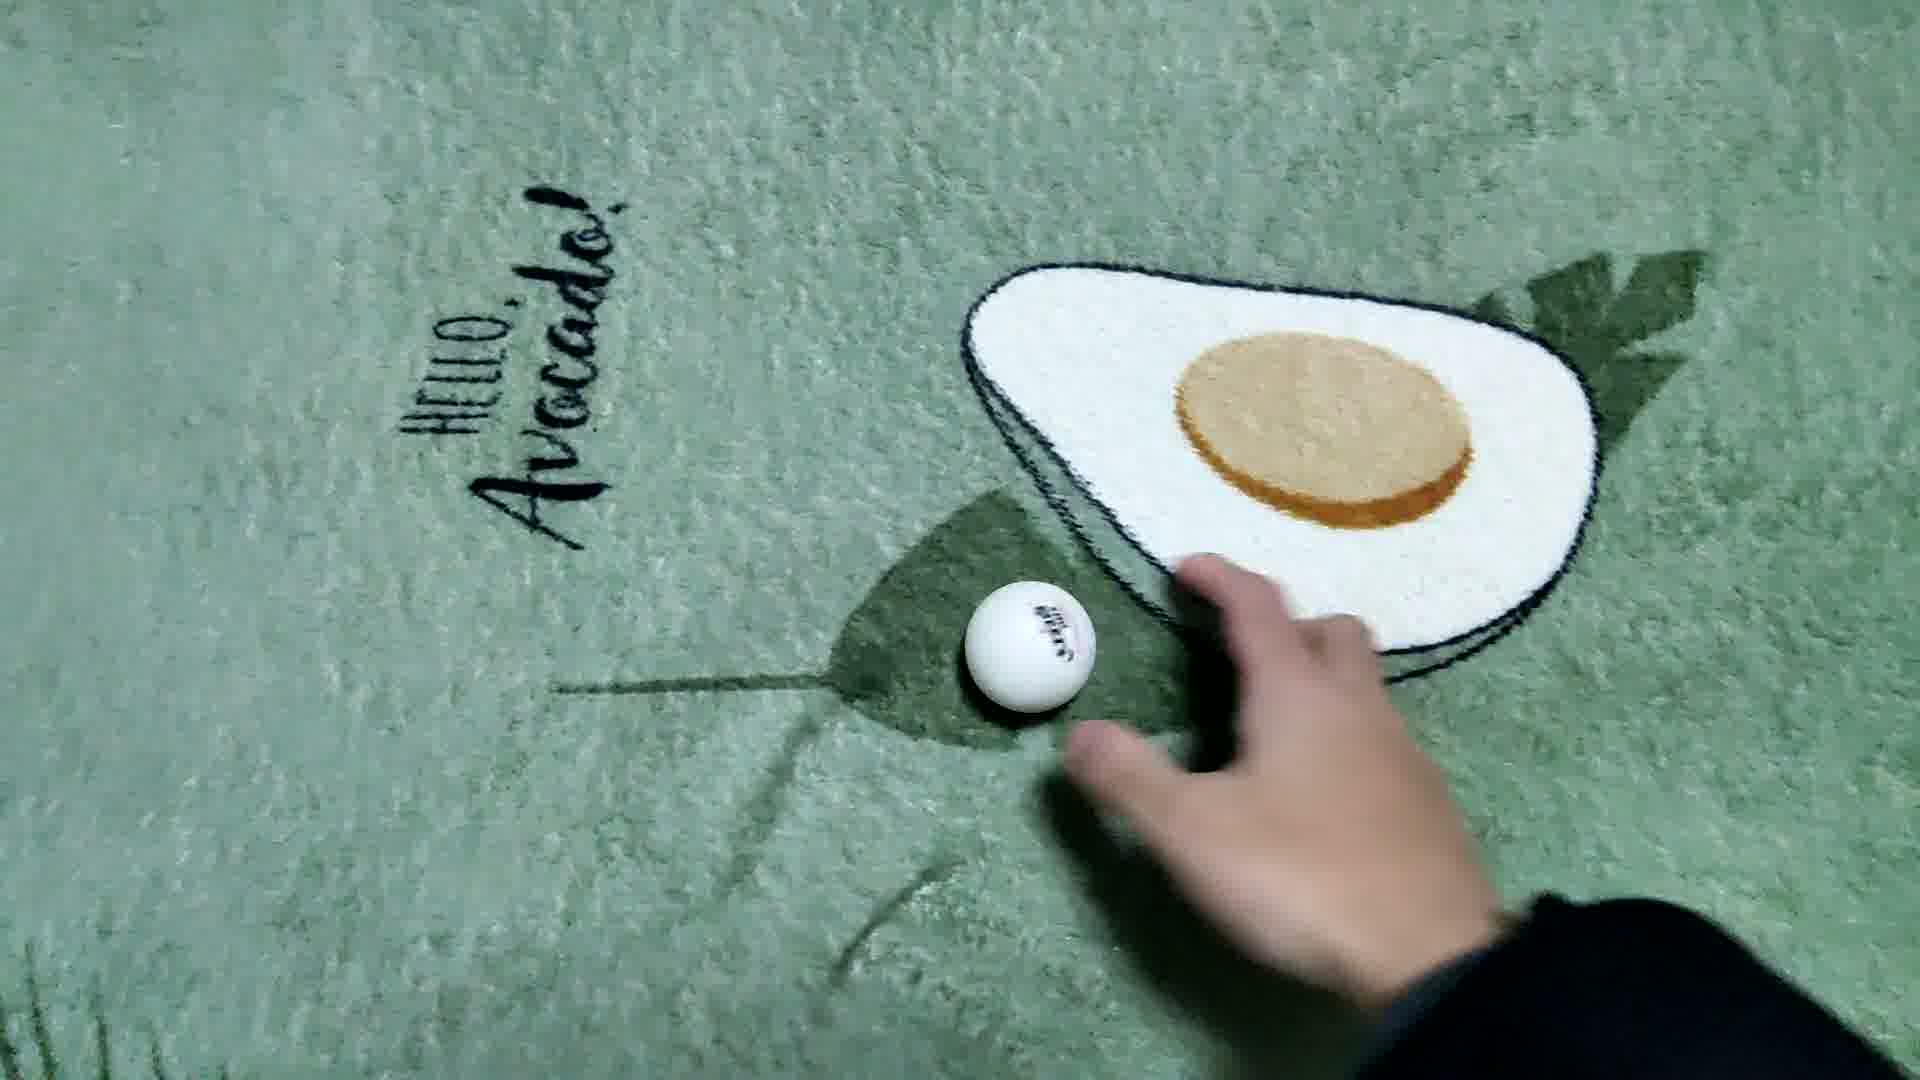Ball: (963, 582, 1096, 716)
